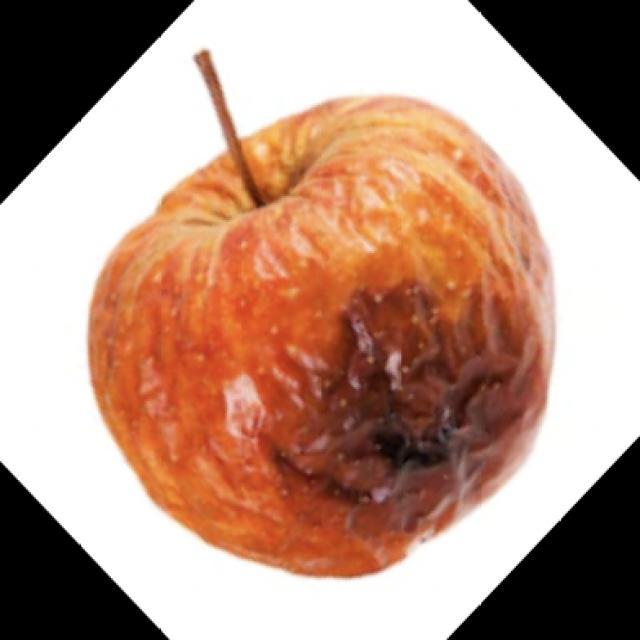Rotten: (110, 98, 552, 555)
